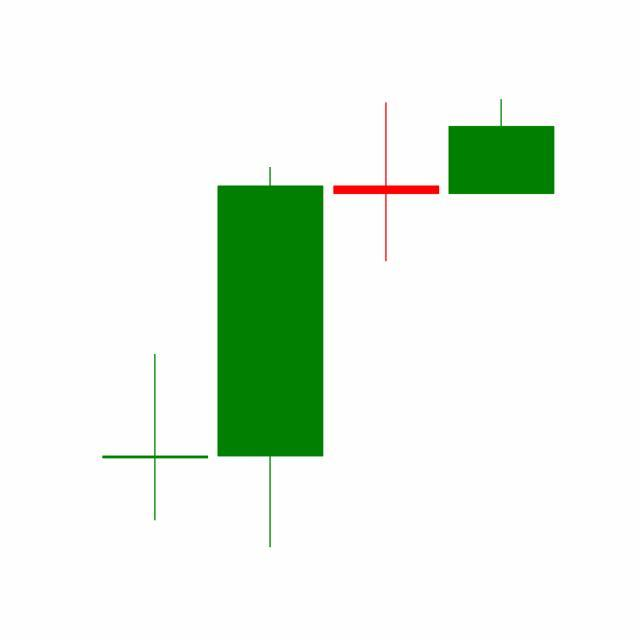Spinning Top: (329, 102, 445, 264)
